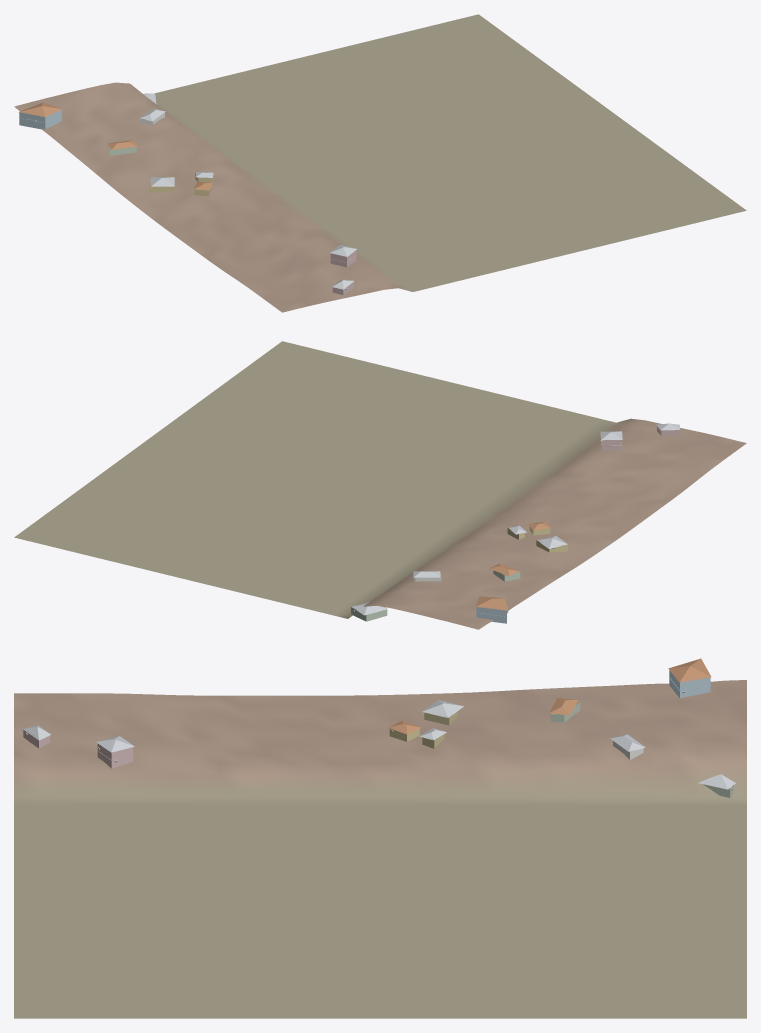
3 renders of one model, top to bottom at view 1: azimuth 30°, elevation 25°; view 2: azimuth 150°, elevation 25°; view 3: azimuth 270°, elevation 25°, orthographic. The views are drawn at different scales.
Parts seen in each view (by area): view 1: Terrain-col, Buildings-col; view 2: Terrain-col, Buildings-col; view 3: Terrain-col, Buildings-col.
Part boxes in pixels (x1,y1,x2,y2): Terrain-col: (14, 14, 746, 312); Buildings-col: (18, 93, 356, 295); Terrain-col: (14, 341, 746, 629); Buildings-col: (351, 423, 679, 623); Terrain-col: (14, 680, 746, 1018); Buildings-col: (23, 658, 735, 797).
Size of the model in its own units: 263 by 18.79 by 256.
